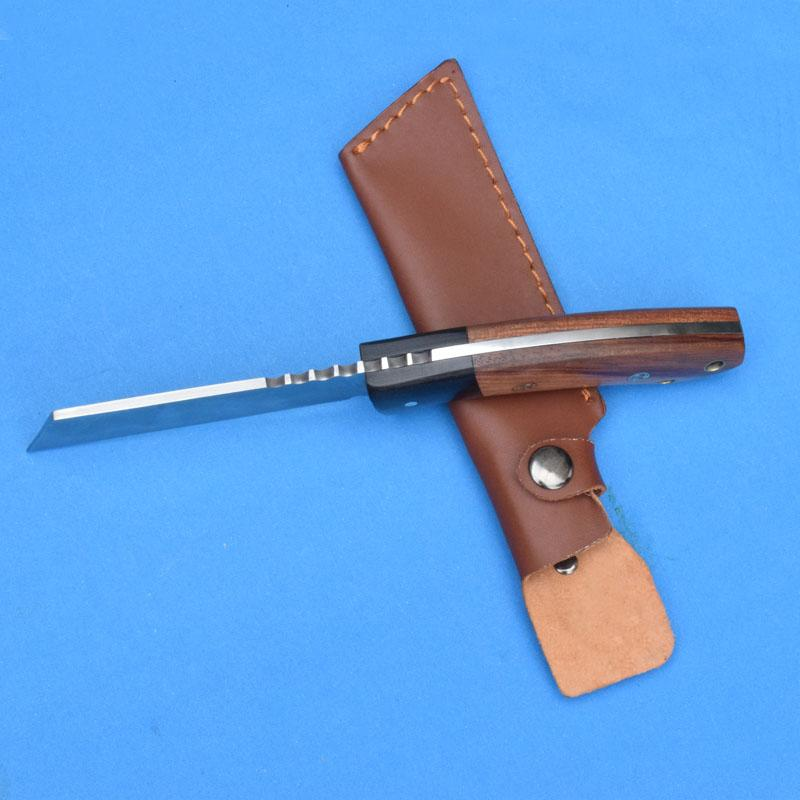knife: (18, 41, 755, 715)
